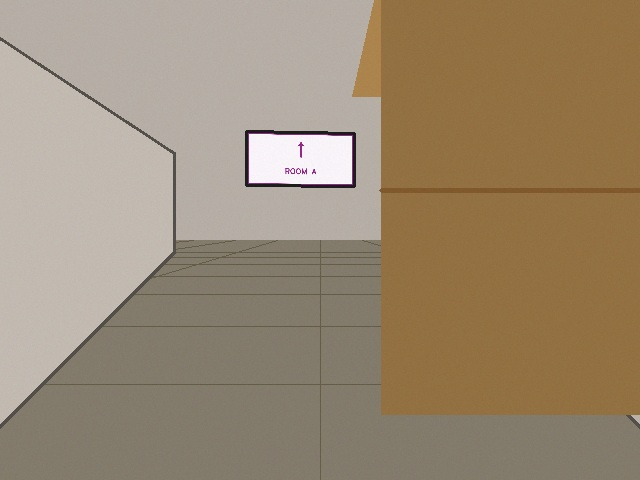box: (352, 0, 639, 414)
directional_sign: (246, 131, 354, 186)
